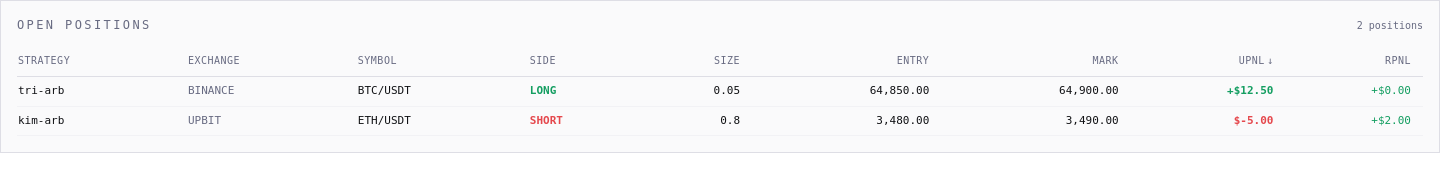
Scenario: PositionTable › sorts by a column when header is clicked
Note: Default sort is unrealized_pnl desc — click Strategy header
Click the column heading "Strategy".
click(44, 60)  # box [17, 45, 187, 76]
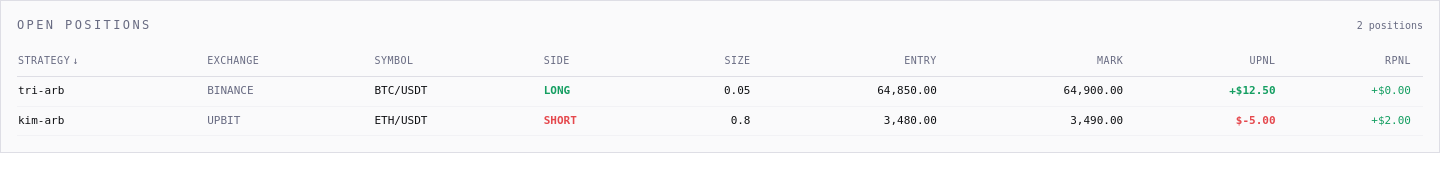
expect the column heading "Strategy↓" is shown: met, box [17, 45, 206, 76]
